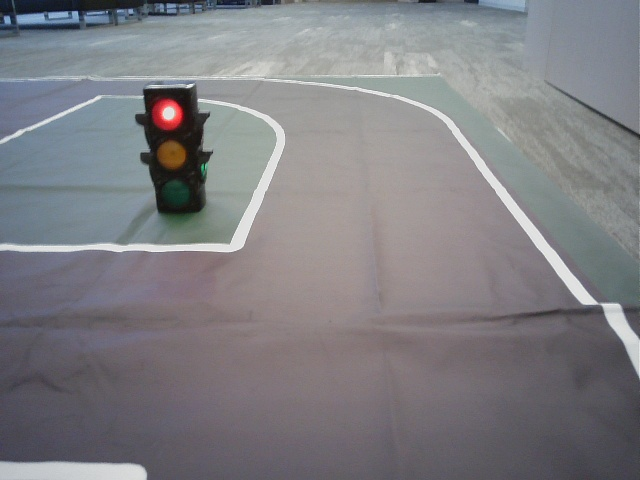red: (147, 94, 194, 210)
